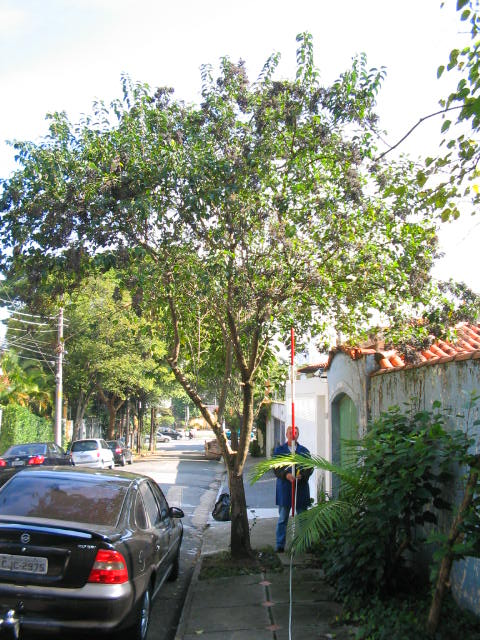crown: (6, 34, 453, 324)
stem: (214, 462, 261, 558)
stick: (283, 326, 304, 565)
tree: (3, 33, 457, 559)
